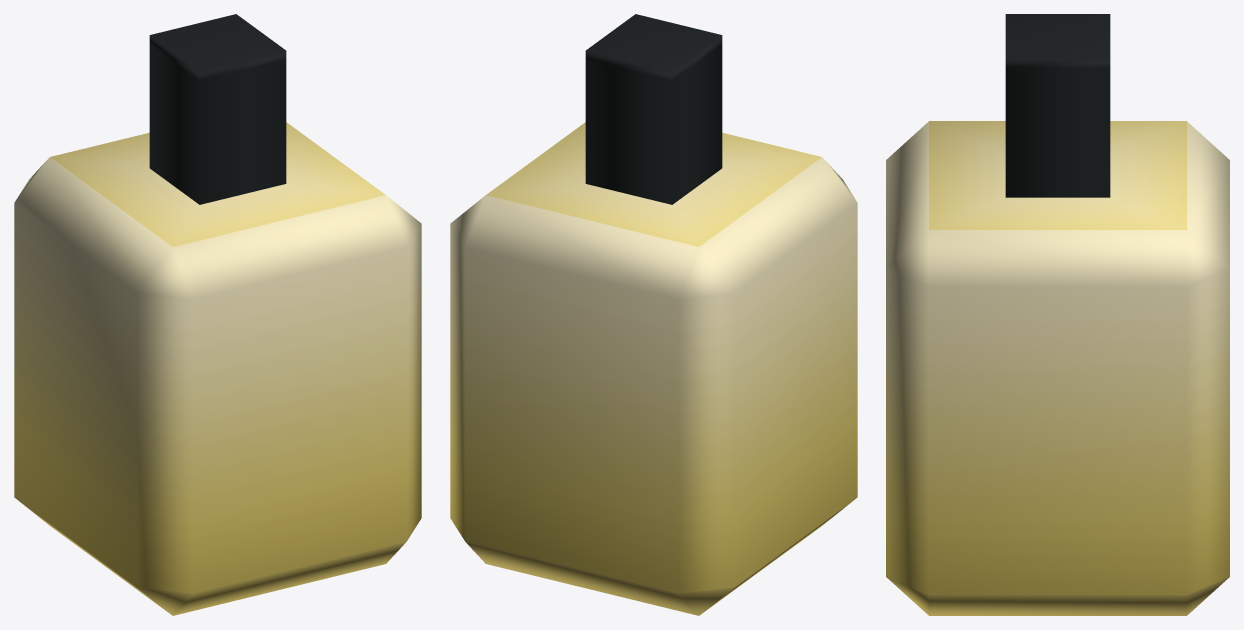
Rendered from candle_medium_2.fbx.
The picture shows the model from 3 angles, left to right: view 1: azimuth 30°, elevation 25°; view 2: azimuth 150°, elevation 25°; view 3: azimuth 270°, elevation 25°; orthographic projection. The views are drawn at different scales.
Parts seen in each view (by area): view 1: candle_medium_2; view 2: candle_medium_2; view 3: candle_medium_2.
Boxes of the visible parts, left/top/right/bottom form: candle_medium_2: left=14, top=14, right=421, bottom=615; candle_medium_2: left=450, top=14, right=857, bottom=615; candle_medium_2: left=886, top=14, right=1229, bottom=615.
Size of the model in its own units: 26.94 by 45.43 by 26.94.
